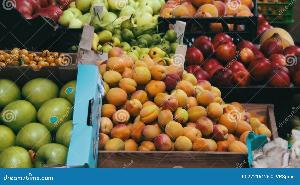apple: (0, 58, 84, 174), (190, 29, 300, 93)
apricot: (94, 51, 266, 165)
pear: (86, 18, 186, 62)
